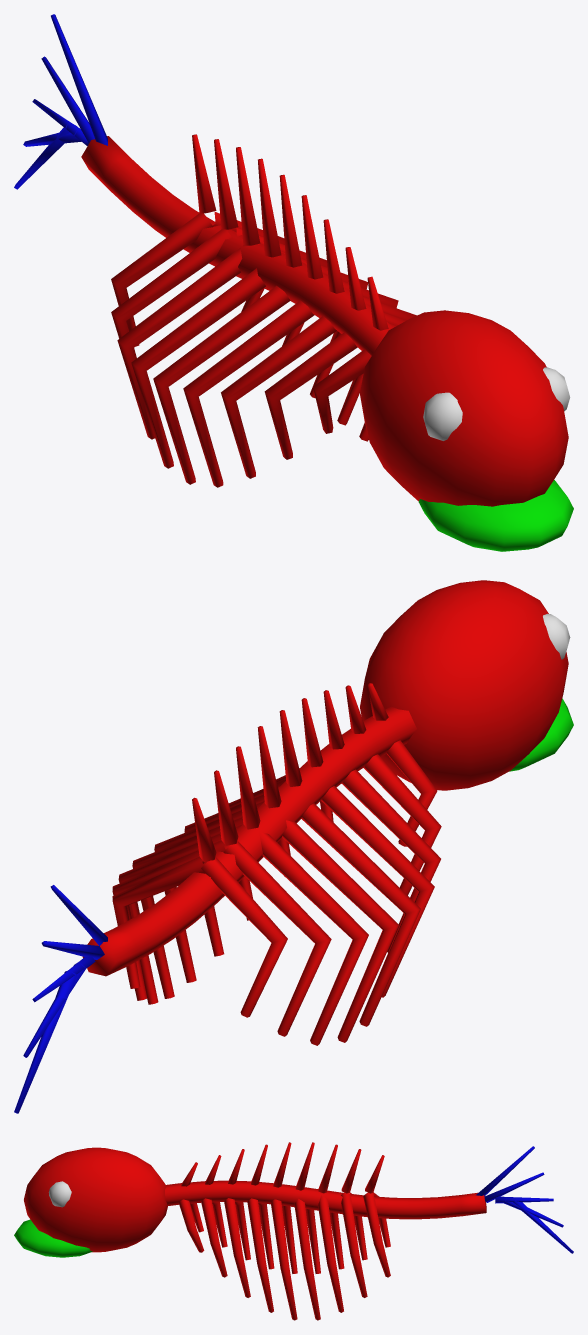
Rendered from fish_bonefish.glb.
3 views of the same model, one above another, from view 1: azimuth 30°, elevation 25°; view 2: azimuth 150°, elevation 25°; view 3: azimuth 270°, elevation 25° (orthographic). The views are drawn at different scales.
Visible parts, largest first — view 1: Body, Glow; view 2: Body, Glow; view 3: Body, Glow.
Boxes of the visible parts, x1,y1,x2,y2 form: Body: [14, 14, 573, 551]; Glow: [423, 367, 570, 440]; Body: [14, 580, 573, 1113]; Glow: [543, 613, 570, 659]; Body: [14, 1142, 573, 1320]; Glow: [48, 1181, 71, 1207].
Size of the model in its own units: 0.3343 by 0.3503 by 1.15.
